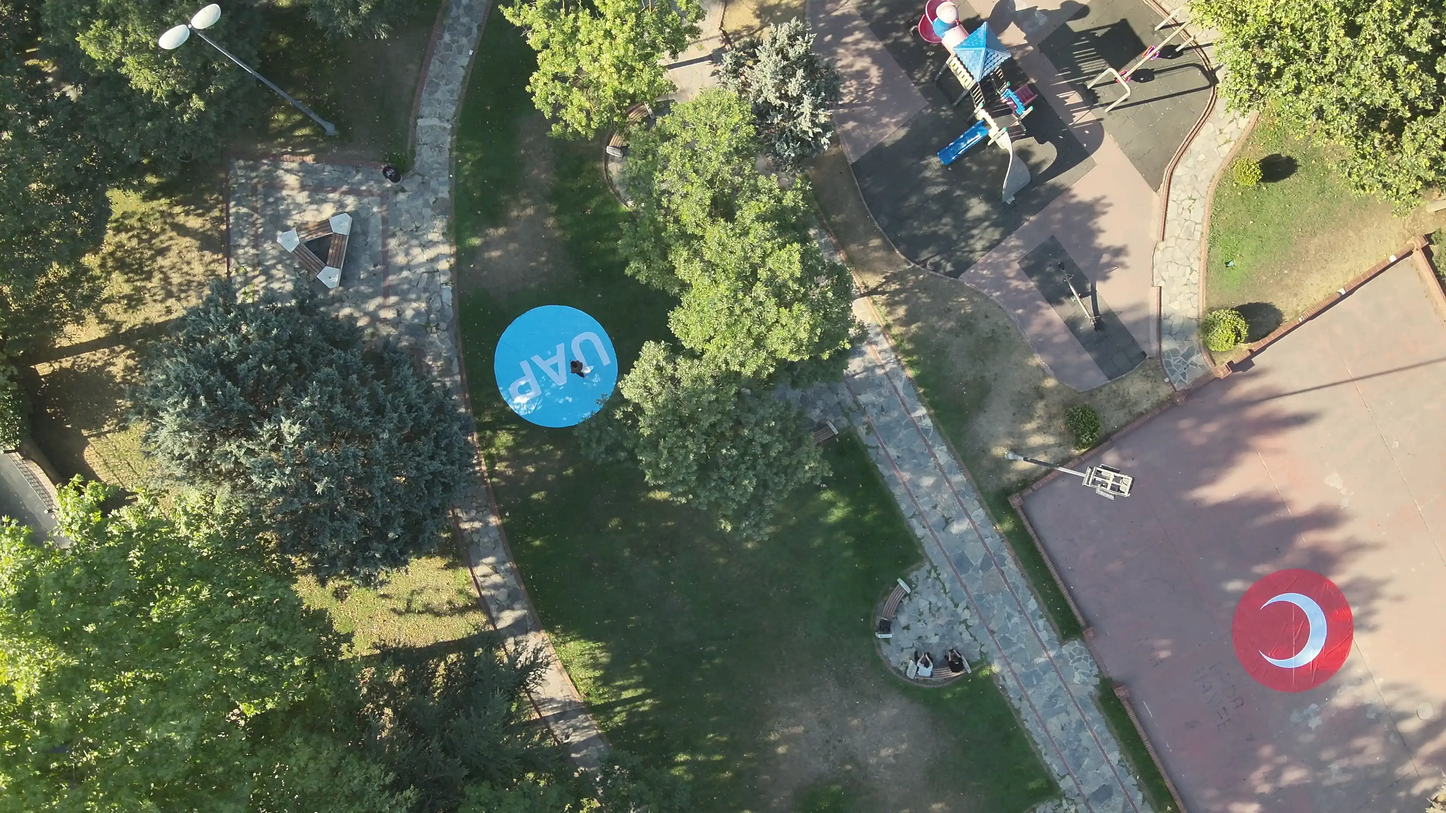UAP: (495, 301, 620, 430)
person: (569, 358, 594, 381)
